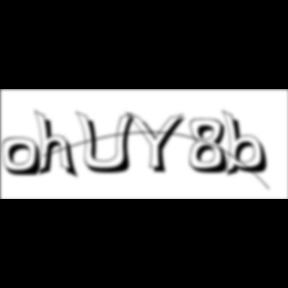8: (190, 117, 234, 176)
U: (76, 110, 140, 176)
Y: (125, 110, 192, 176)
b: (222, 109, 274, 179)
h: (34, 108, 82, 182)
o: (2, 137, 44, 179)
